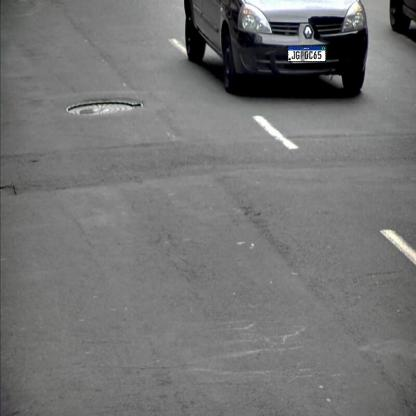PlacaM: (288, 45, 326, 61)
